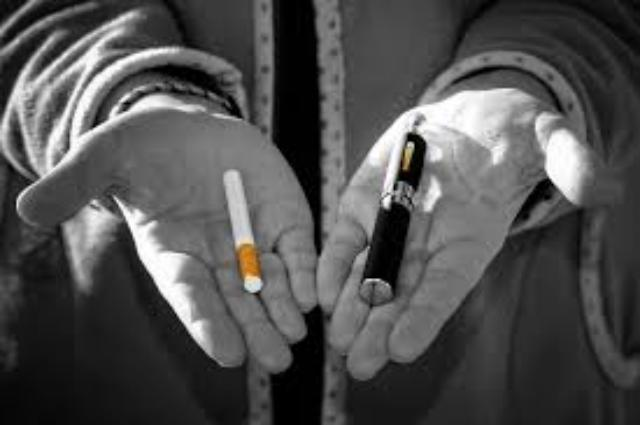Smoking: (222, 167, 264, 295)
